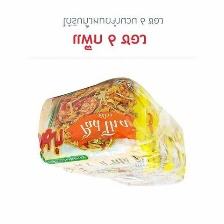snack: (29, 70, 191, 193)
